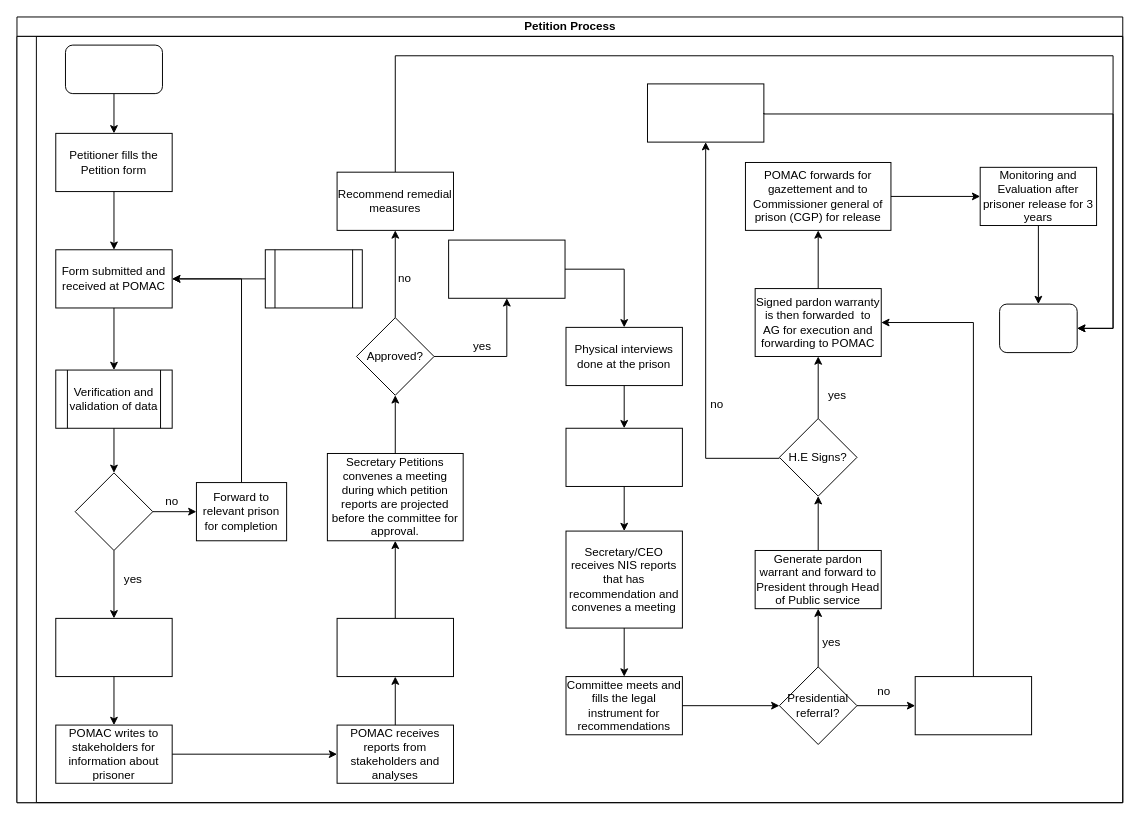
Image size: 1140x820. Some labels were removed from this diagram. The centre of each missing label's shape, as x and y in pixels:
"Allow 30 days and if no feedback the petition can be resubmitted in future" belongs at pixel 705 112.
"Data complete?" belongs at pixel 113 511.
"End" belongs at pixel 1038 328.
"Forward approved petition to NIS for security intelligence report" belongs at pixel 623 456.
"Forward petition to judiciary" belongs at pixel 973 705.
"Generation of petition number" belongs at pixel 313 278.
"POMAC looks for judgement records" belongs at pixel 113 647.
"POMAC secretariat receives petition summary from submitted reports" belongs at pixel 394 647.
"Recommend physical interview" belongs at pixel 506 268.
"Start" belongs at pixel 113 69.
